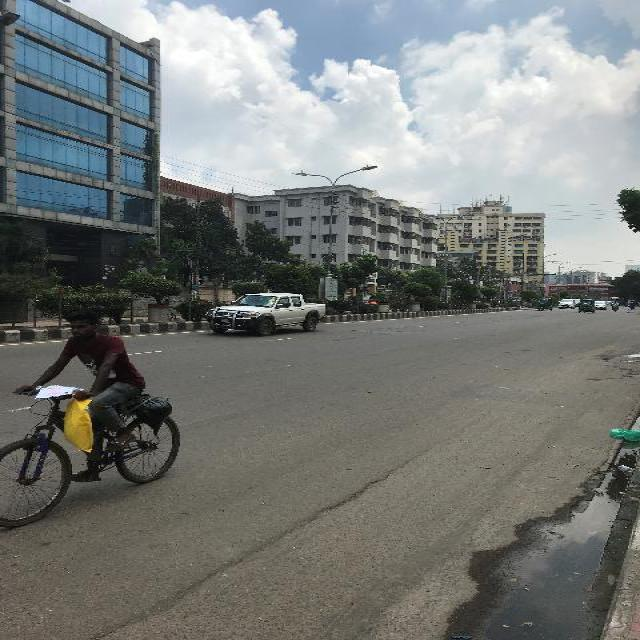bus: (609, 296, 619, 305)
car: (557, 297, 575, 308), (593, 300, 607, 309)
motorcycle: (536, 297, 551, 311), (579, 298, 593, 313), (610, 300, 618, 311)
truck: (203, 290, 324, 335)
